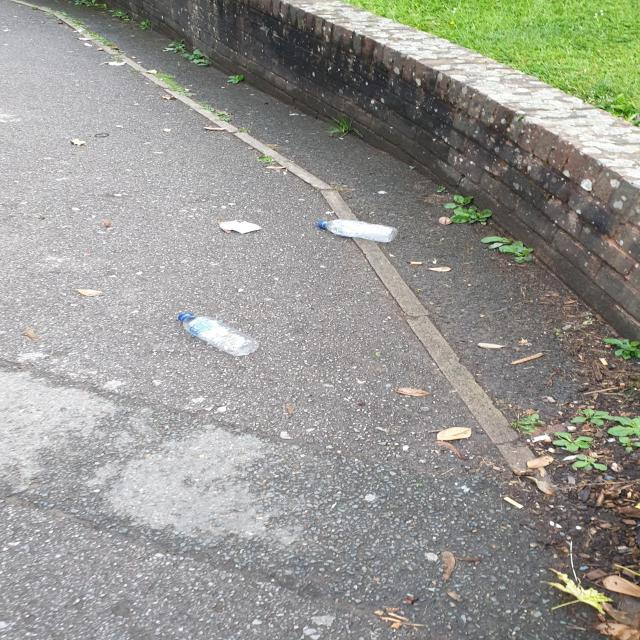litter: (179, 310, 263, 356), (317, 219, 399, 245), (218, 220, 262, 234), (502, 497, 523, 509), (599, 358, 608, 366), (94, 133, 111, 137), (411, 261, 424, 265)
